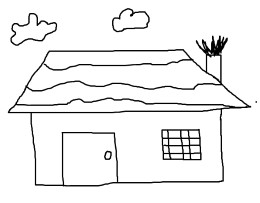closed_window: (161, 128, 202, 161)
clouds: (9, 11, 57, 46), (110, 7, 150, 32)
door: (58, 127, 121, 191)
roof: (7, 48, 251, 109)
smoking_chimney: (194, 31, 234, 84)
wall: (29, 108, 225, 186)
